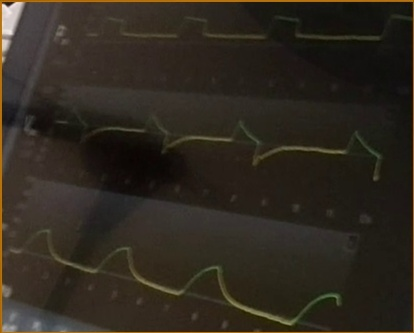Normal Flow: (57, 101, 385, 183)
Normal Volume: (12, 226, 342, 325)
